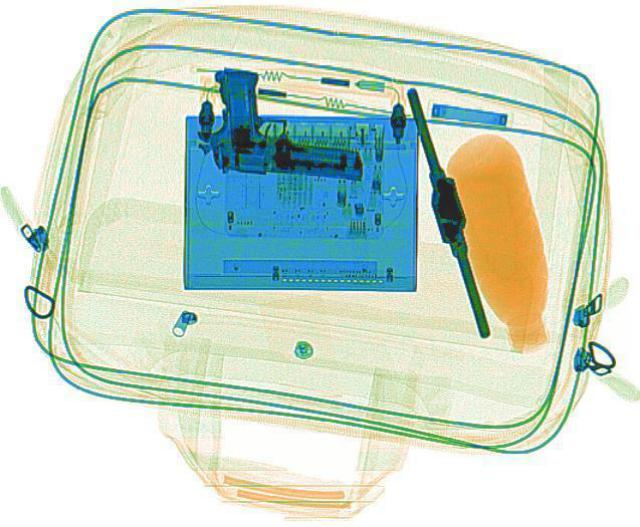Gun: (189, 65, 377, 182)
